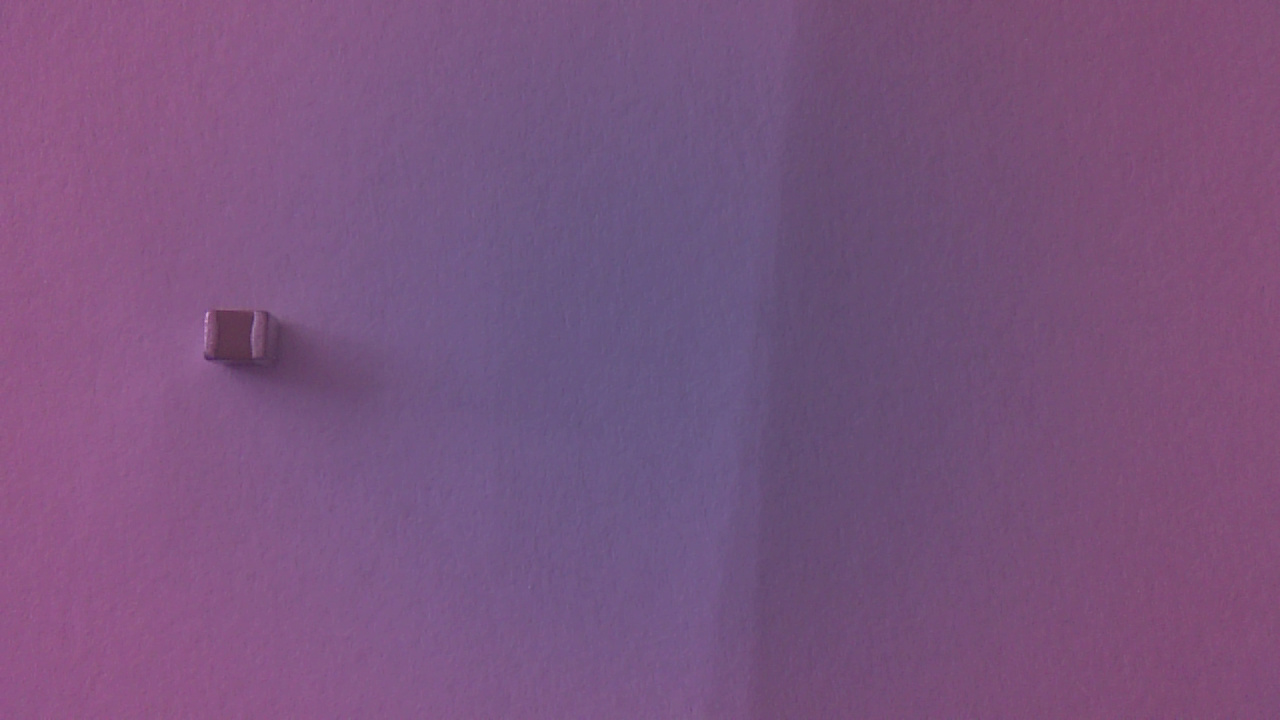Condensator: (203, 309, 280, 375)
